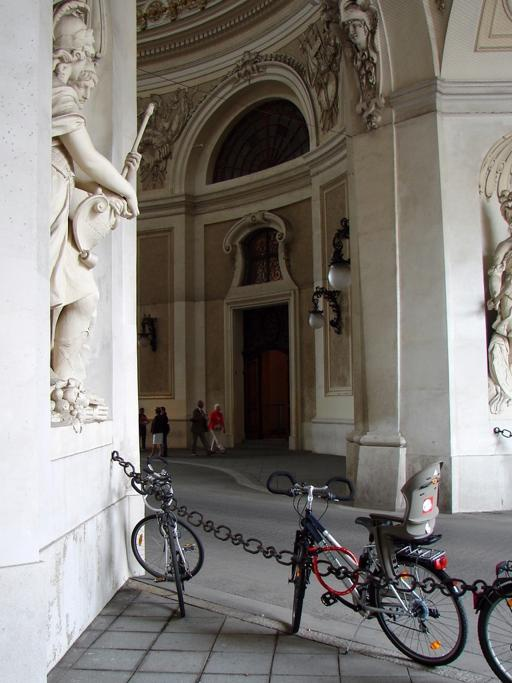non-vehicle: (265, 470, 468, 666), (130, 454, 204, 619), (472, 559, 512, 682)
